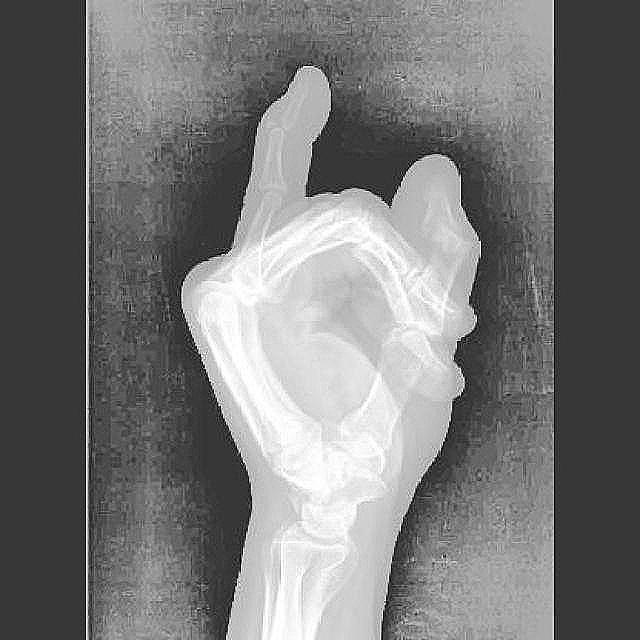bone: (263, 113, 286, 133)
